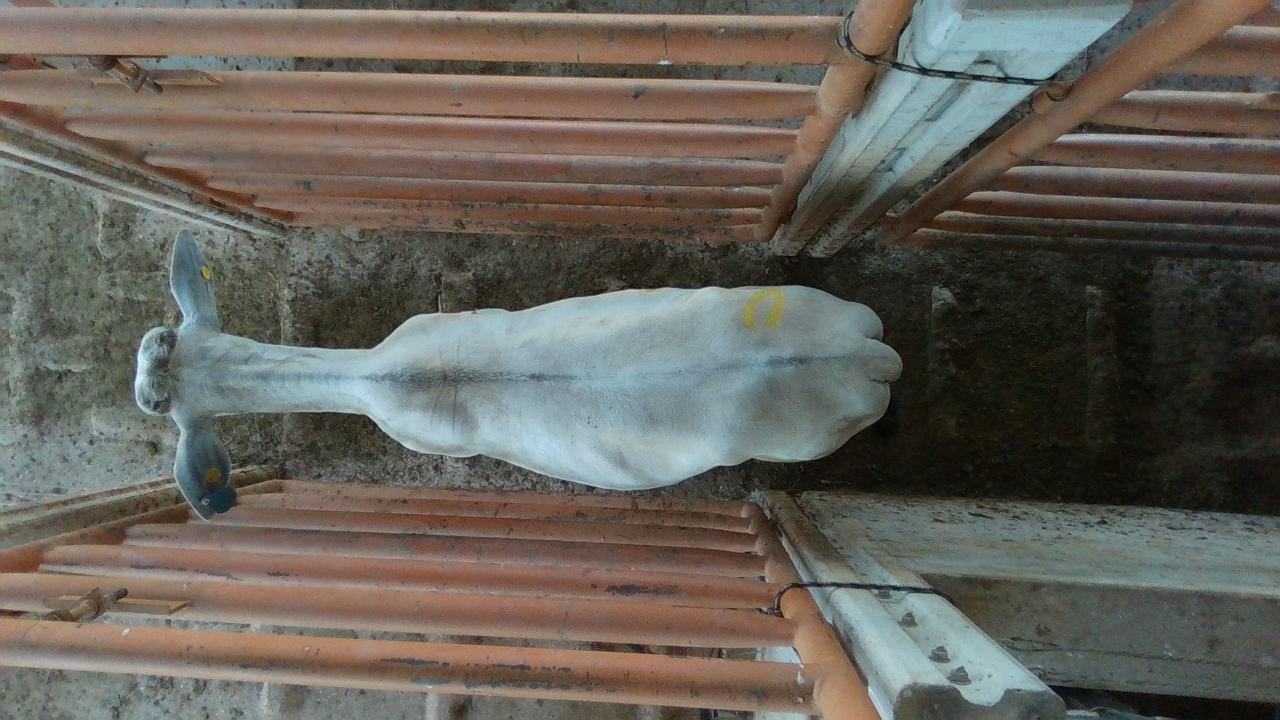cattle: (132, 227, 903, 520)
